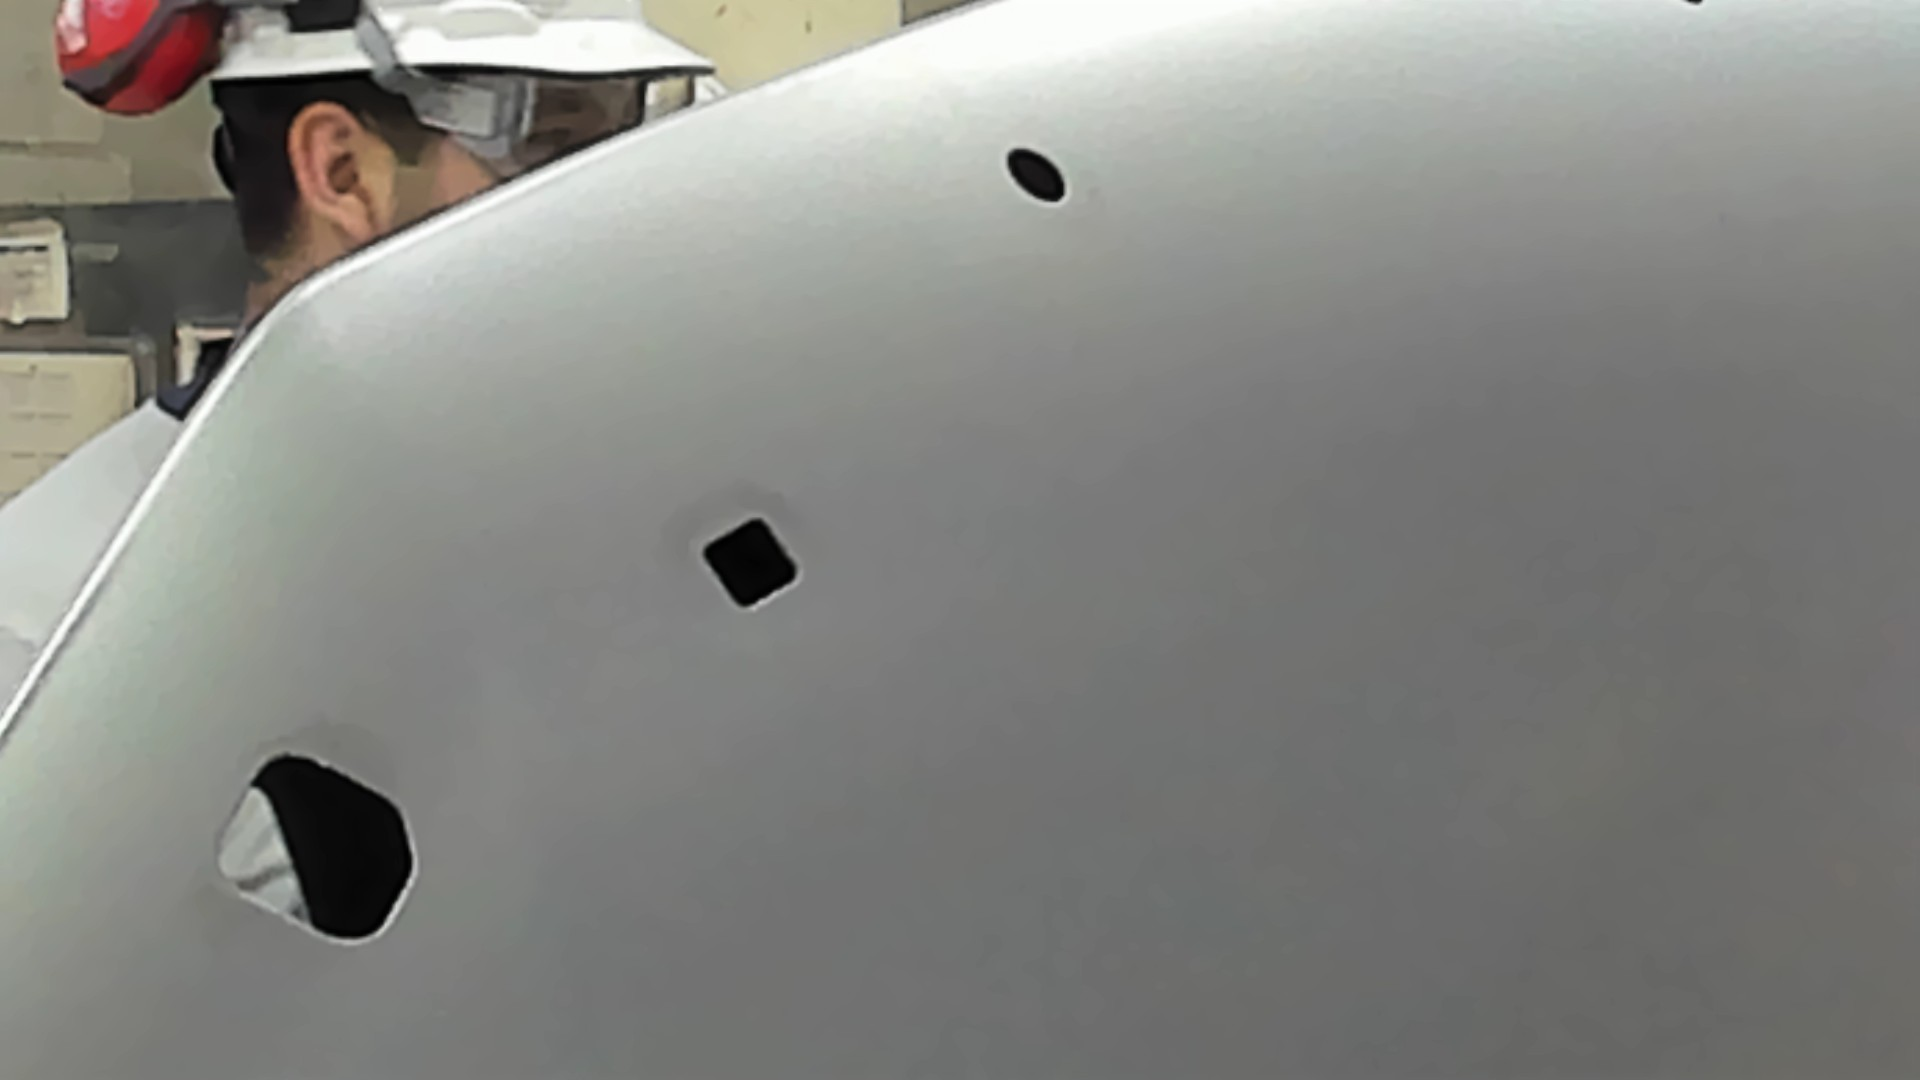chico: (997, 138, 1073, 208)
grande: (208, 746, 423, 953)
mediano: (692, 509, 807, 615)
